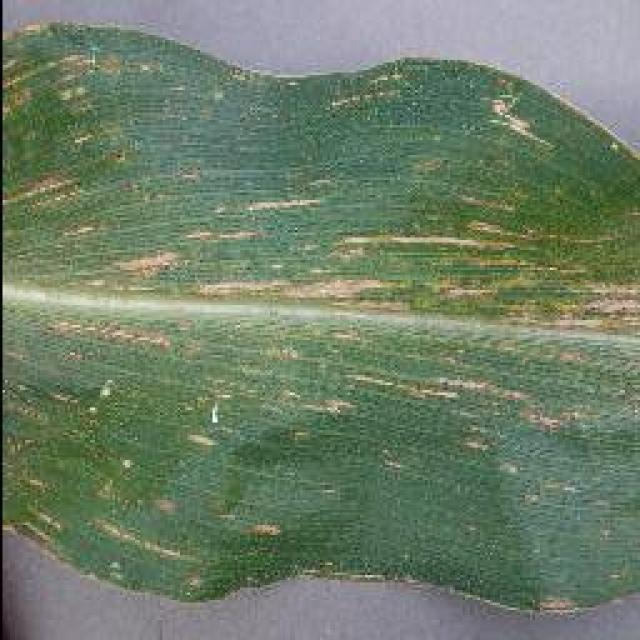Corn_Grey_Leaf_Spot: (7, 60, 640, 580)
